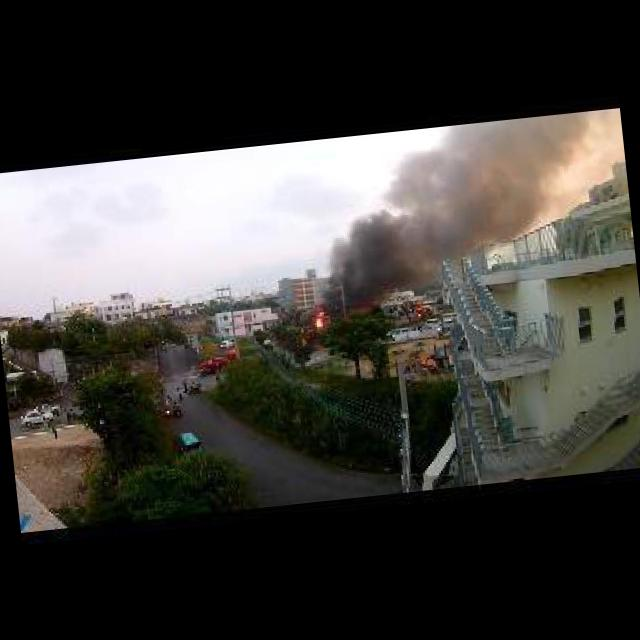Smoke: (308, 302, 336, 335)
